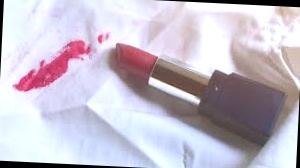lipstick: (17, 45, 92, 93), (61, 33, 101, 71), (89, 29, 112, 46)
